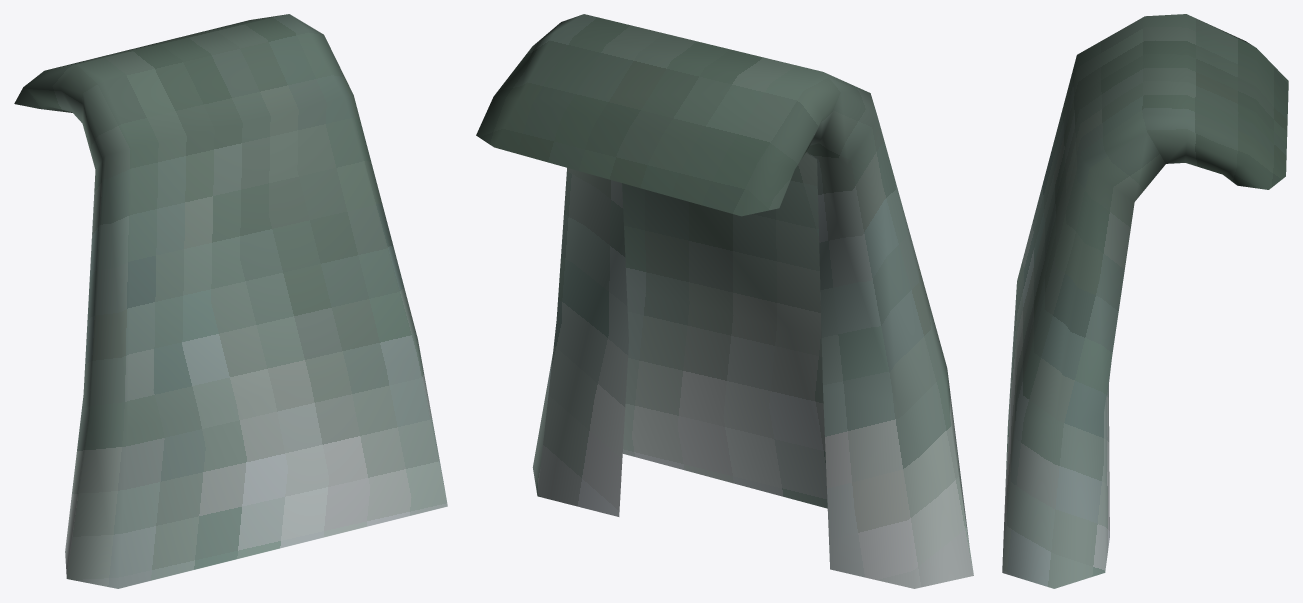
Rendered from vanilla_lod_waterfalls_fxwaterfallbodytall_lod-e6ecafe8.glb.
3 renders of one model, left to right at view 1: azimuth 30°, elevation 25°; view 2: azimuth 150°, elevation 25°; view 3: azimuth 270°, elevation 25°, orthographic. The views are drawn at different scales.
Parts seen in each view (by area): view 1: es|FXWaterfallBodyTallInner01.001; view 2: es|FXWaterfallBodyTallInner01.001; view 3: es|FXWaterfallBodyTallInner01.001.
Part boxes in pixels (box(x1,y1,x2,y2)): es|FXWaterfallBodyTallInner01.001: box(14, 14, 447, 588); es|FXWaterfallBodyTallInner01.001: box(476, 14, 973, 588); es|FXWaterfallBodyTallInner01.001: box(1002, 14, 1288, 588).
Size of the model in its own units: 13.78 by 15.53 by 9.31.
1 material, 1 textured.
